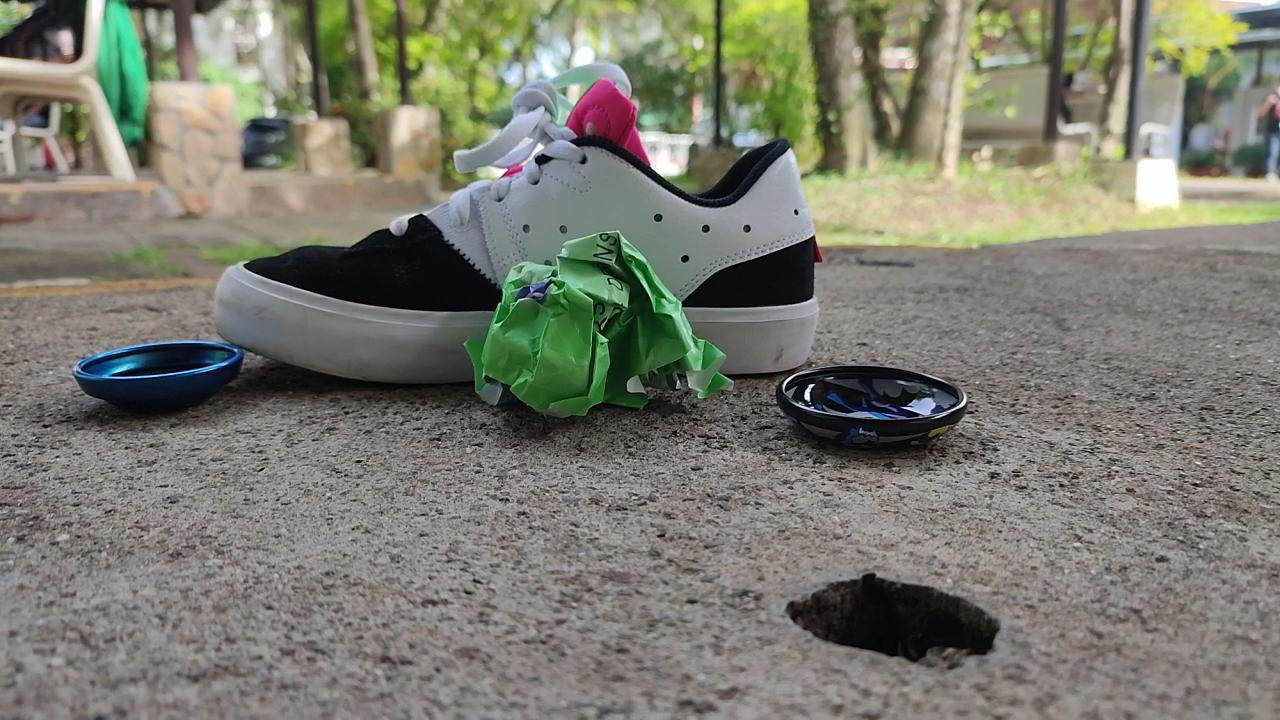Paper: (446, 215, 742, 432)
